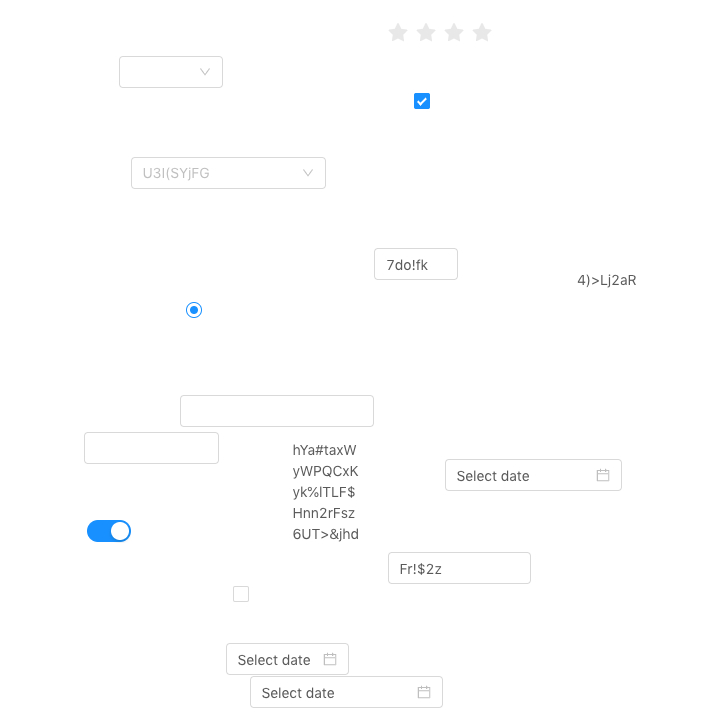Checkbox: (414, 90, 430, 111), (233, 583, 249, 604)
DatePicker: (250, 676, 443, 708), (445, 459, 622, 491), (226, 643, 349, 675)
Input: (180, 395, 374, 427), (388, 552, 531, 584), (84, 432, 219, 464), (374, 248, 458, 280)
Radio: (186, 299, 202, 319)
Rate: (388, 16, 508, 48)
Select: (131, 157, 326, 189), (119, 56, 223, 88)
Switch: (87, 519, 131, 543)
Text: (293, 439, 364, 549), (577, 269, 645, 291)
